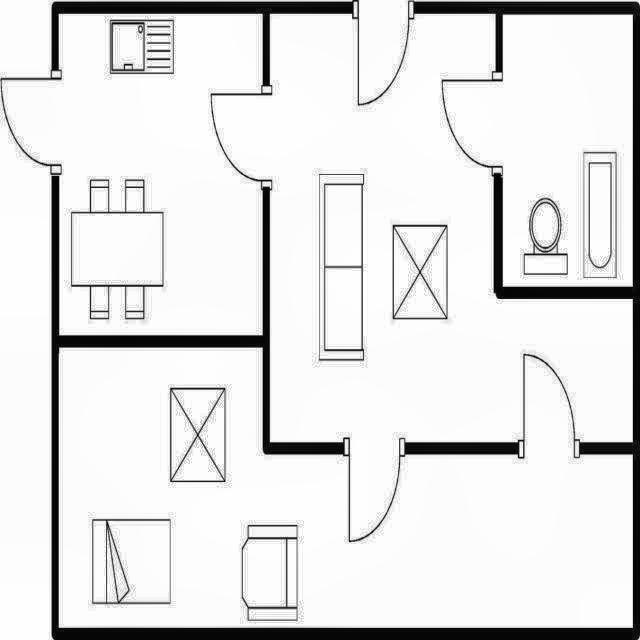room: (59, 347, 633, 628), (270, 14, 633, 442), (59, 14, 263, 335), (502, 14, 633, 287)
